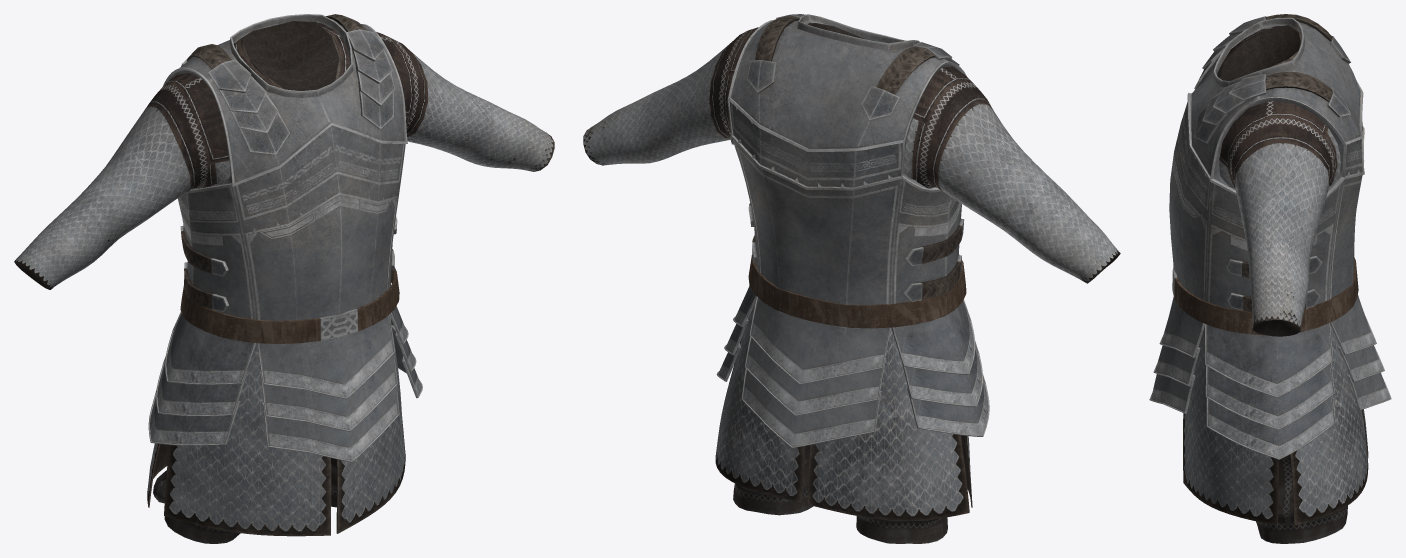
The model's file is sk_dwarf_erebor_chest_plate_heavy_a.fbx.
3 views of the same model, side by side, from view 1: azimuth 30°, elevation 25°; view 2: azimuth 150°, elevation 25°; view 3: azimuth 270°, elevation 25° (orthographic). The views are drawn at different scales.
Parts seen in each view (by area): view 1: sk_dwarf_erebor_chest_plate_heavy_a.1, sk_dwarf_erebor_chest_plate_heavy_a.2, sk_dwarf_erebor_chest_plate_heavy_a.0; view 2: sk_dwarf_erebor_chest_plate_heavy_a.1, sk_dwarf_erebor_chest_plate_heavy_a.2, sk_dwarf_erebor_chest_plate_heavy_a.0; view 3: sk_dwarf_erebor_chest_plate_heavy_a.1, sk_dwarf_erebor_chest_plate_heavy_a.2, sk_dwarf_erebor_chest_plate_heavy_a.0.
Part boxes in pixels (left/top/right/bottom): sk_dwarf_erebor_chest_plate_heavy_a.1: left=148, top=14, right=422, bottom=462; sk_dwarf_erebor_chest_plate_heavy_a.2: left=14, top=21, right=554, bottom=536; sk_dwarf_erebor_chest_plate_heavy_a.0: left=153, top=458, right=336, bottom=543; sk_dwarf_erebor_chest_plate_heavy_a.1: left=716, top=14, right=989, bottom=448; sk_dwarf_erebor_chest_plate_heavy_a.2: left=583, top=23, right=1120, bottom=520; sk_dwarf_erebor_chest_plate_heavy_a.0: left=733, top=435, right=962, bottom=543; sk_dwarf_erebor_chest_plate_heavy_a.1: left=1149, top=14, right=1391, bottom=459; sk_dwarf_erebor_chest_plate_heavy_a.2: left=1172, top=25, right=1368, bottom=525; sk_dwarf_erebor_chest_plate_heavy_a.0: left=1256, top=454, right=1347, bottom=543.
Bounding box in the file's own units: 1.16 × 0.4861 × 1.03.
Materials: 3 (3 with a texture image).
